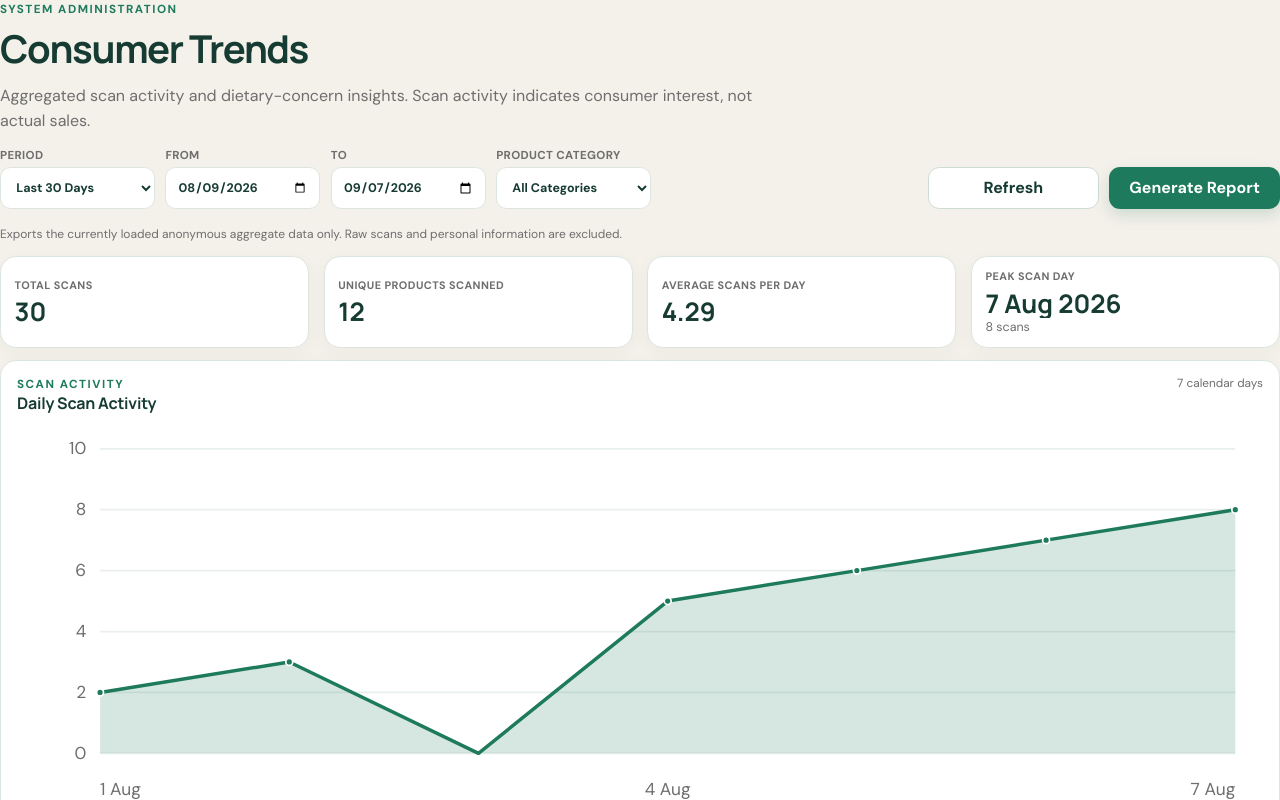
ConsumerTrendsPage › prevents duplicate export while generation is in progress
The width and height of the screenshot is (1280, 800).
Expected: the heading "Daily Scan Activity" is shown, [17, 394, 156, 412]
Click the button "Generate Report". click: [1195, 188]
box: [1109, 167, 1279, 209]
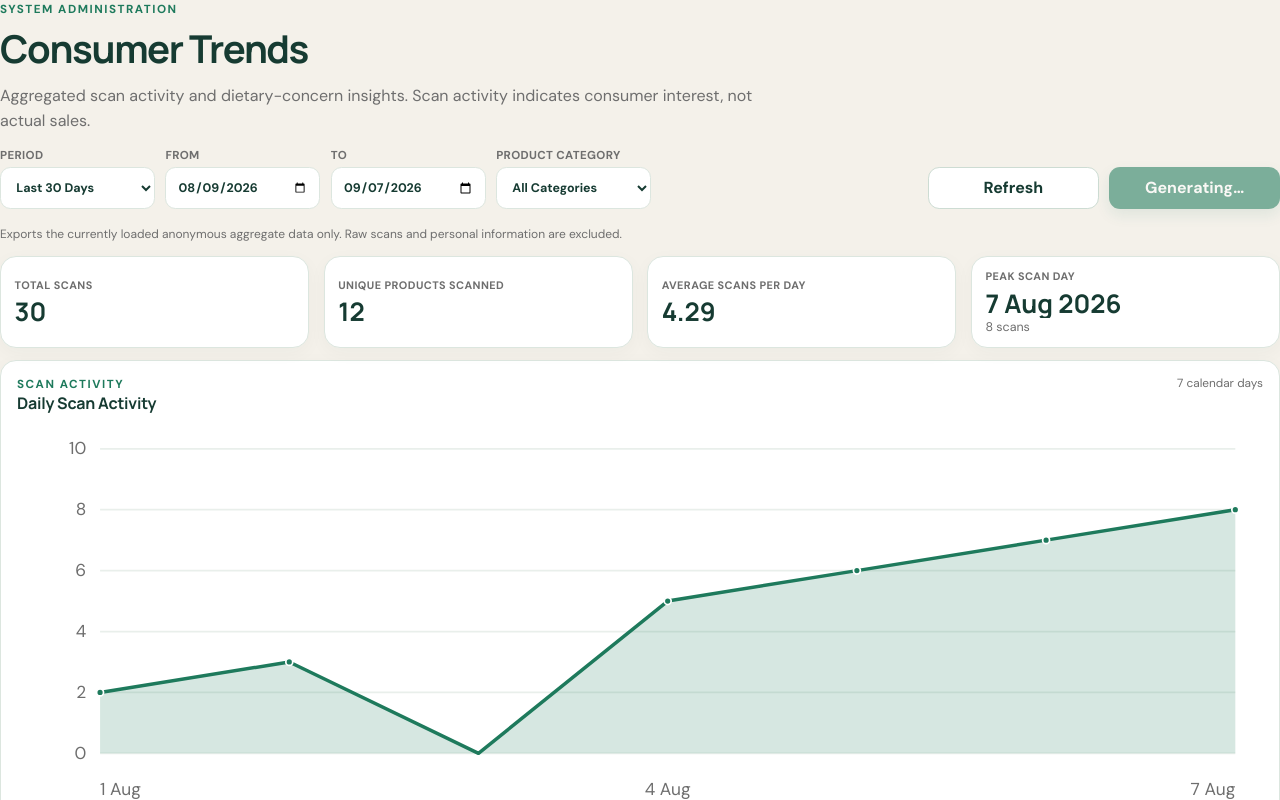
Result: the button "Generating…" is disabled
Click the button "Generating…". click: [1195, 188]
box: [1109, 167, 1279, 209]
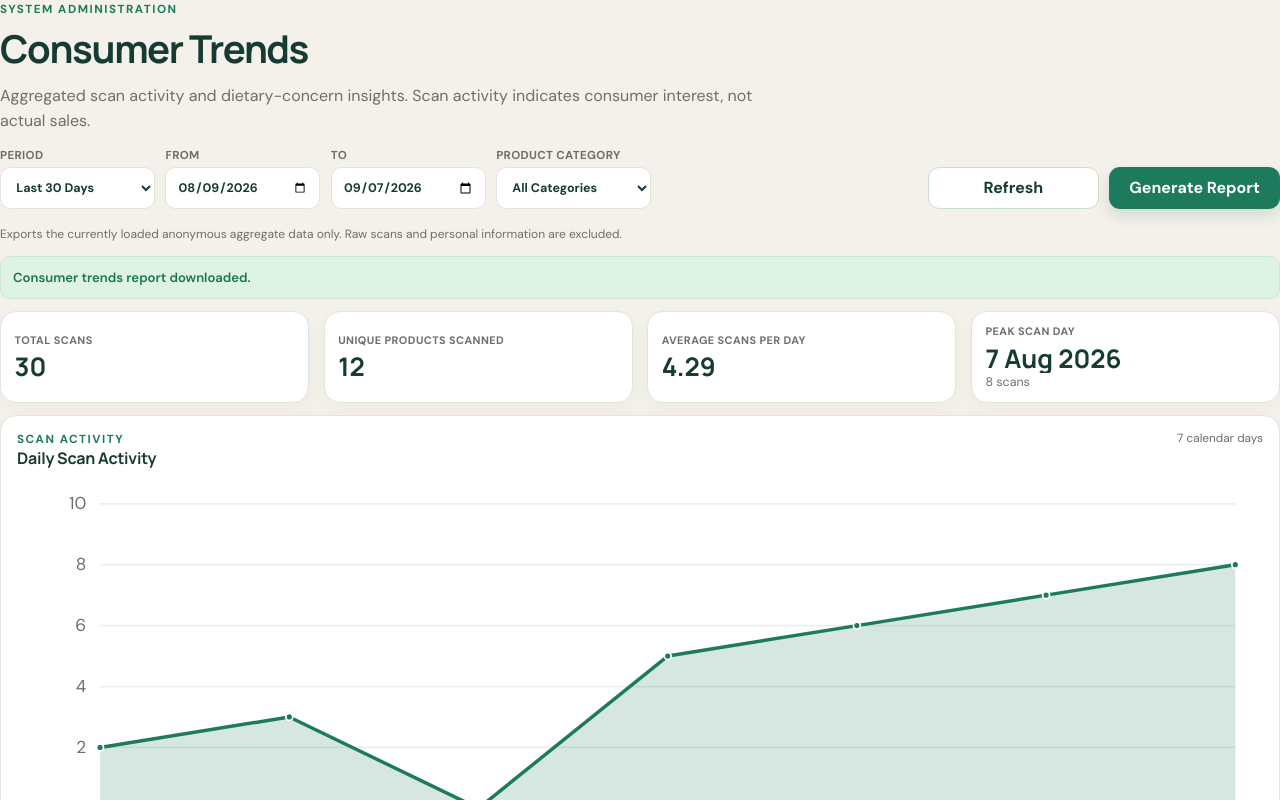
Result: the text "Consumer trends report downloaded." is shown at [0, 256, 1279, 299]
